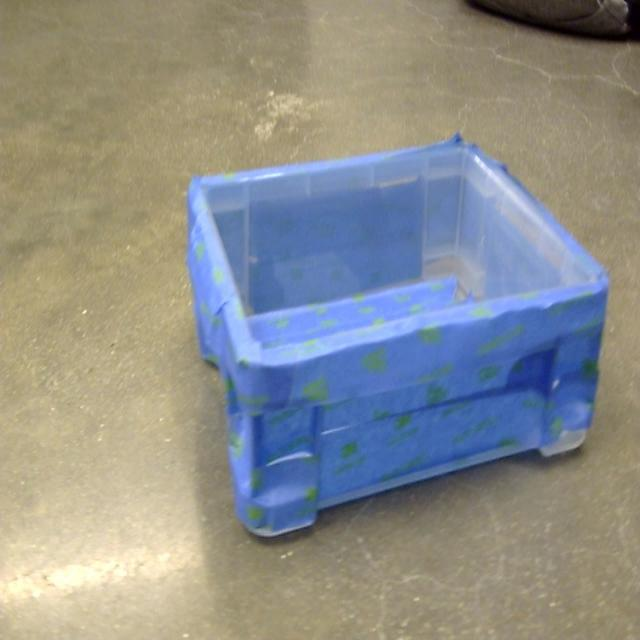bucket: (184, 136, 610, 542)
